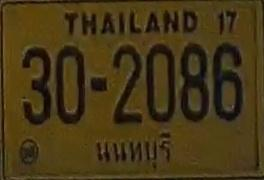0: (55, 45, 85, 123), (146, 43, 174, 122)
2: (113, 45, 141, 124)
3: (21, 47, 51, 124)
6: (212, 42, 241, 120)
8: (180, 42, 207, 121)
NBI: (91, 128, 177, 171)
